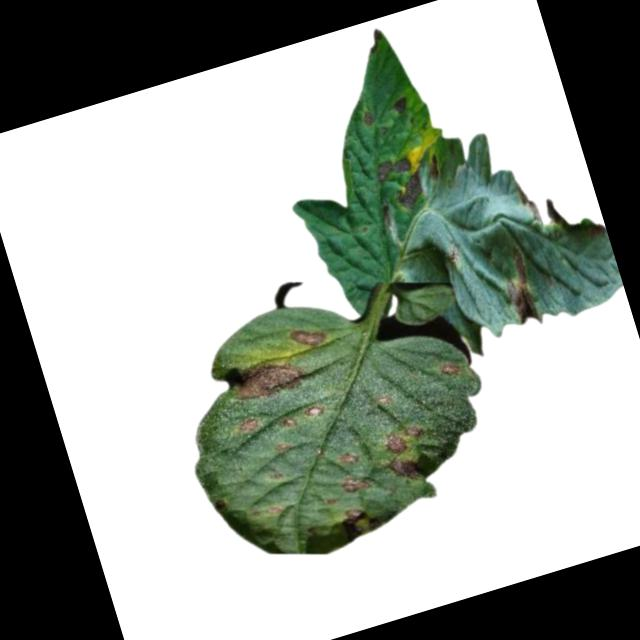Early_blight: (487, 238, 547, 329), (225, 355, 310, 410), (371, 419, 427, 459), (510, 173, 546, 233), (384, 448, 426, 488), (368, 151, 414, 185), (289, 320, 331, 354), (395, 171, 430, 211), (339, 468, 371, 499), (231, 413, 261, 436), (300, 399, 325, 424), (333, 446, 359, 470), (341, 502, 365, 524), (278, 411, 301, 433), (387, 94, 409, 115), (438, 359, 459, 378), (357, 107, 375, 128)
